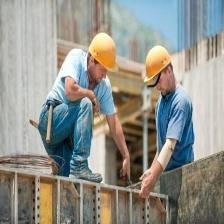Person: (38, 31, 117, 179), (142, 44, 194, 168)
helmet: (88, 32, 119, 75), (143, 44, 175, 84)
no-vest: (155, 90, 192, 165), (52, 65, 112, 111)
